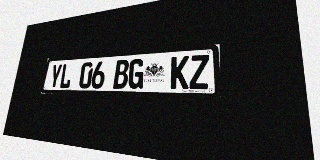0: (78, 62, 94, 89)
6: (90, 61, 106, 89)
B: (113, 60, 130, 89)
G: (127, 59, 145, 89)
K: (170, 56, 189, 89)
L: (59, 63, 73, 88)
Y: (48, 64, 63, 88)
Z: (189, 54, 209, 89)
